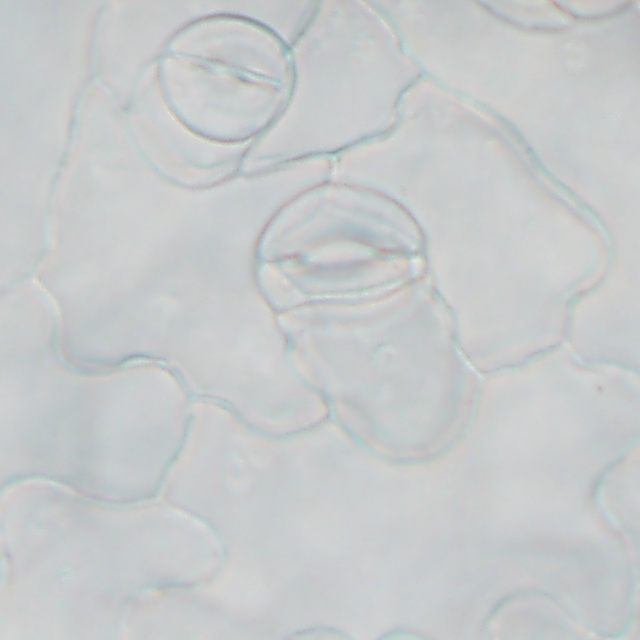center: (294, 236, 387, 279), (197, 57, 266, 95), (574, 8, 610, 10), (303, 632, 334, 634)
stomata-huw1: (256, 184, 425, 325), (159, 15, 295, 142), (479, 0, 632, 28), (552, 0, 632, 18), (285, 627, 352, 639)
